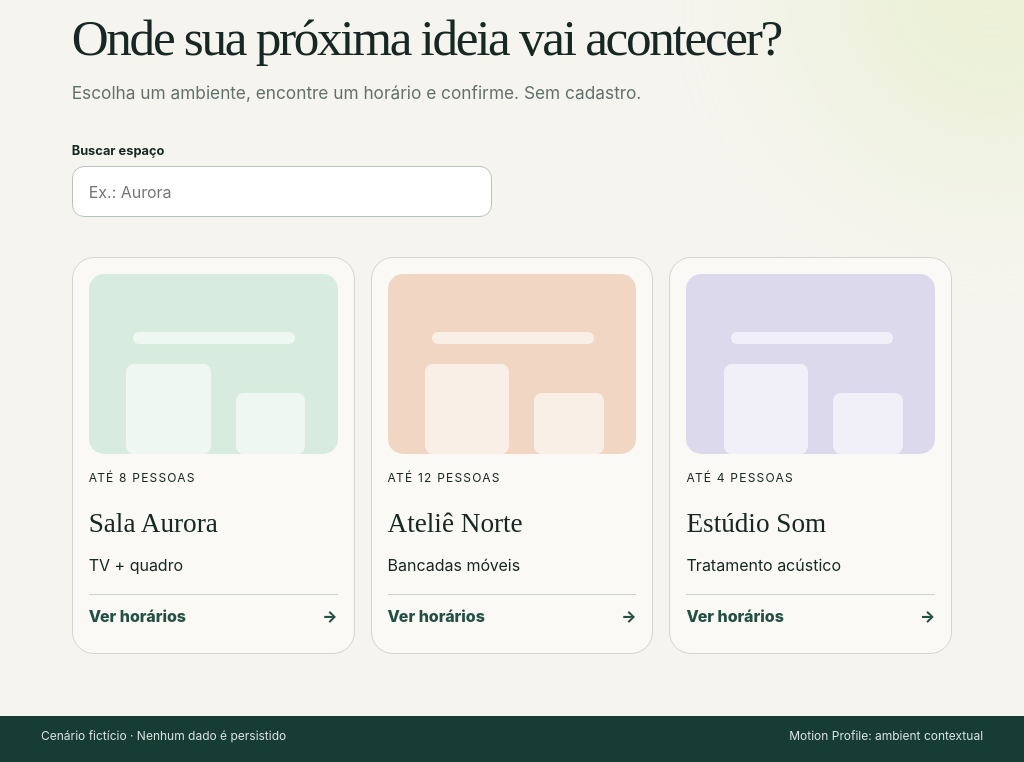
Test case: booking journey › validates contact fields
The width and height of the screenshot is (1024, 762).
(page scrolled)
Step 1. Click the button "Ver horários →" below "TV + quadro" → (213, 616), box [89,594,338,637]
(page scrolled)
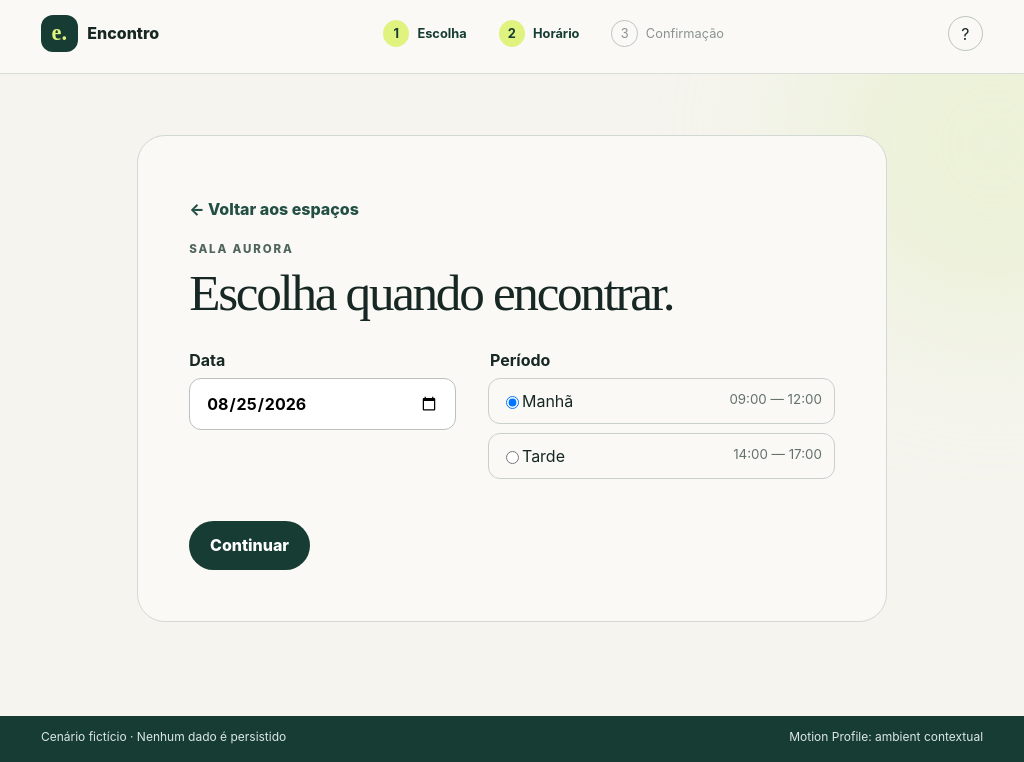
Step 2. Click the button "Continuar" → (250, 545), box [189,521,310,570]
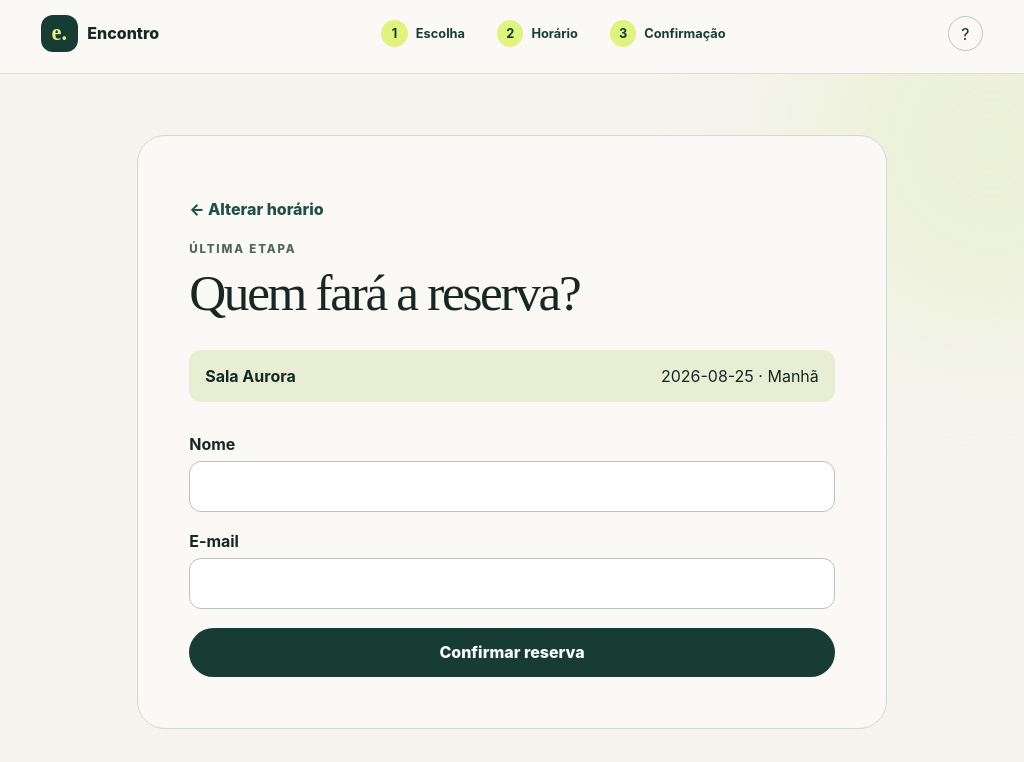
Step 3. Click the button "Confirmar reserva" → (512, 652), box [189,628,835,677]
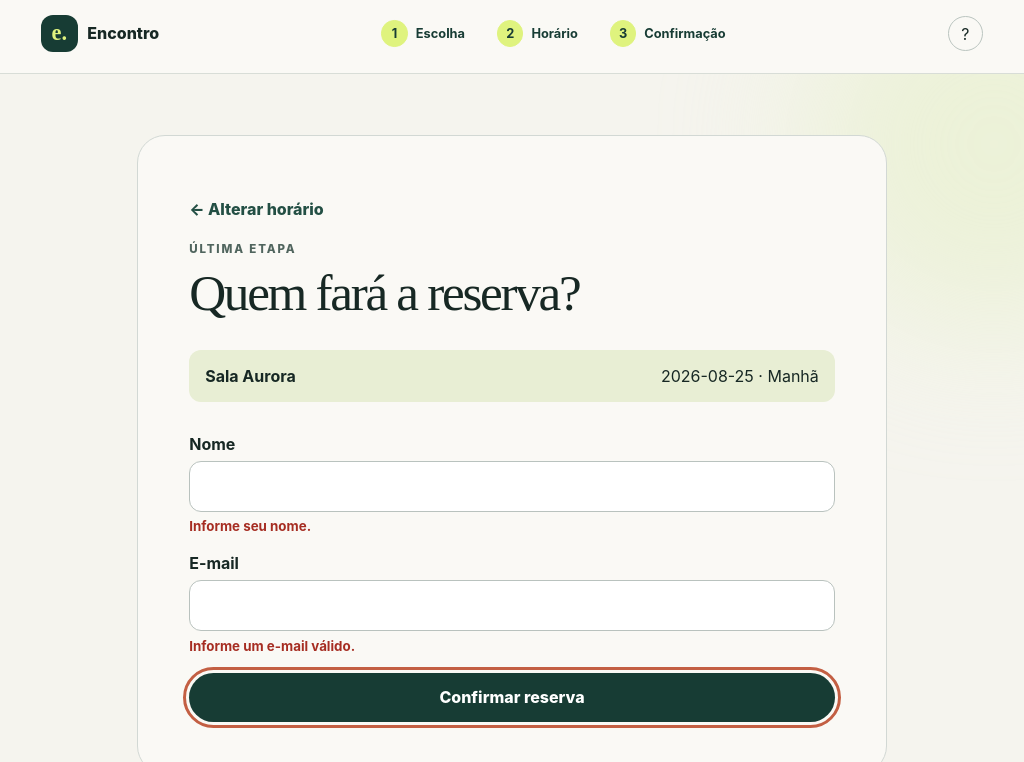
Check: the text "Informe seu nome." is shown, box [189,518,311,534]
Check: the text "Informe um e-mail válido." is shown, box [189,638,355,654]
